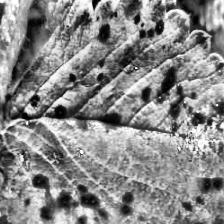Leaf Spot: (0, 0, 224, 224), (0, 0, 49, 120)
